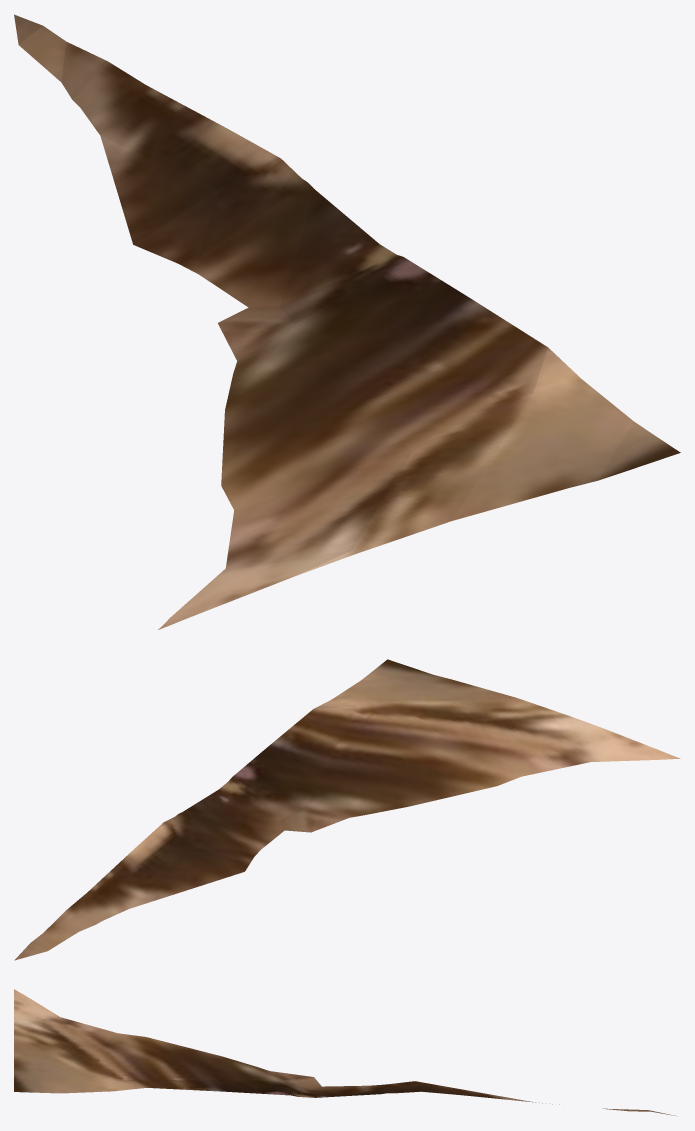
3 views of the same model, one above another, from view 1: azimuth 30°, elevation 25°; view 2: azimuth 150°, elevation 25°; view 3: azimuth 270°, elevation 25° (orthographic). The views are drawn at different scales.
Size of the model in its own units: 0.3387 by 0.0359 by 0.7469.
1 material, 1 textured.
